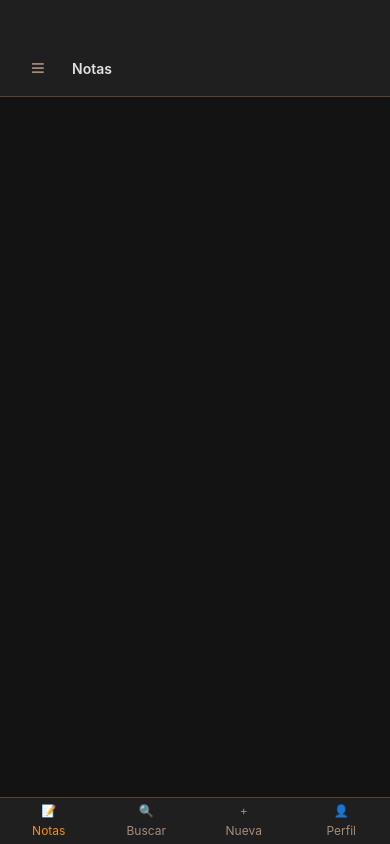
Scenario: MobileShell (PR2 — shell-redesign-v1) › clicking the hamburger opens the SideSheet (dialog visible)
Click the button with test id "mobile-menu-button".
click(38, 68)  # box [16, 46, 60, 90]
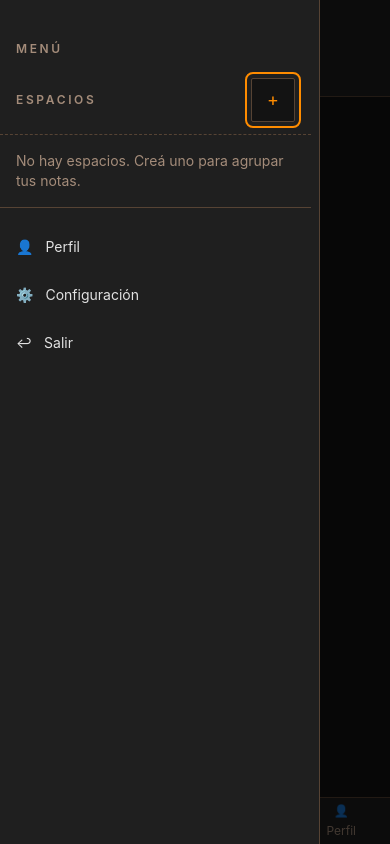
Check: the dialog named "menú lateral" is shown
